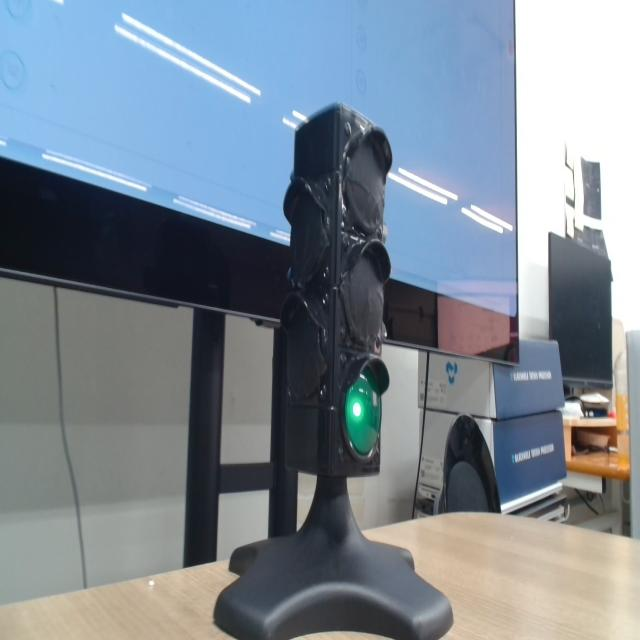green_light: (345, 371, 381, 456)
